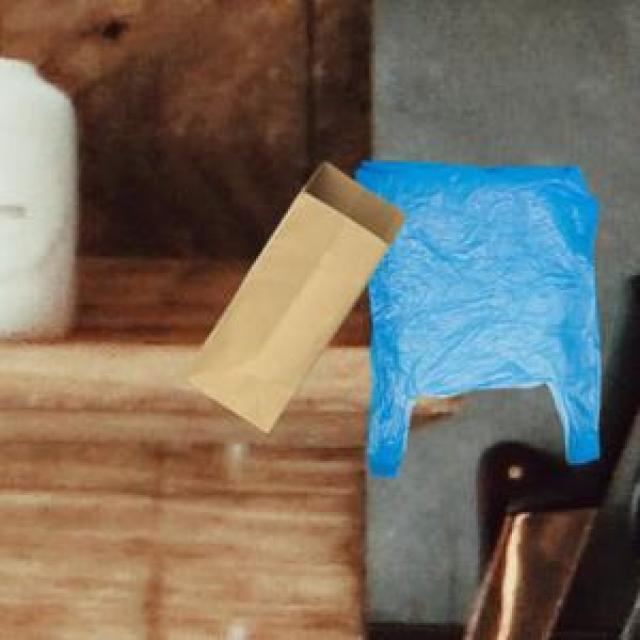paper: (179, 158, 401, 429)
